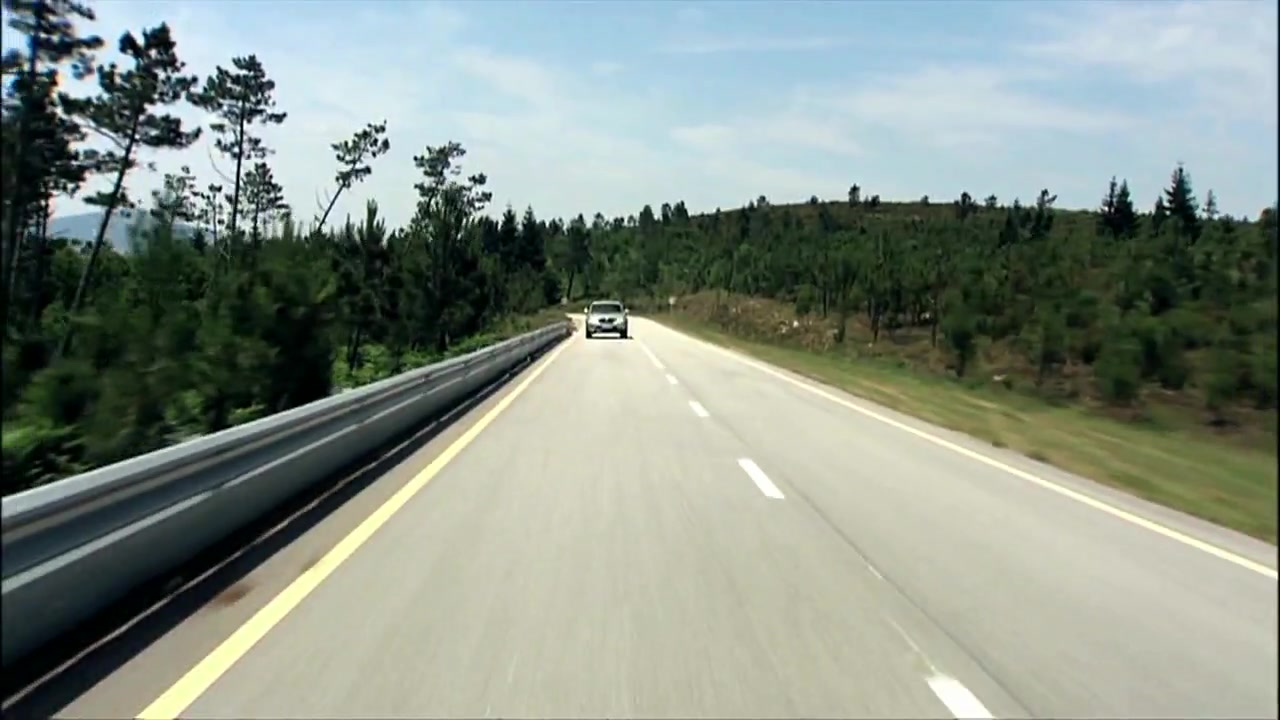car: (585, 299, 631, 339)
